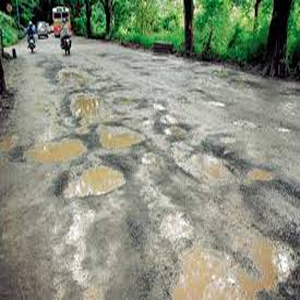pothole: (54, 161, 129, 197), (17, 132, 91, 163), (190, 145, 237, 184), (95, 123, 149, 153), (65, 89, 101, 125), (157, 123, 191, 137)
